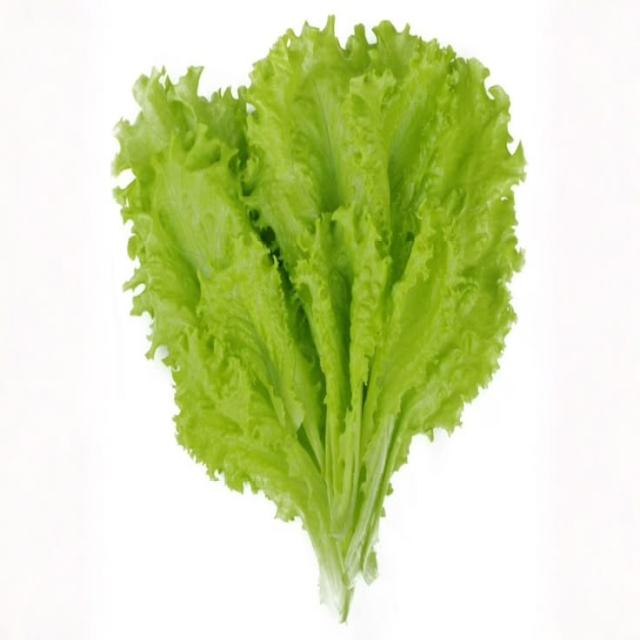lettuce: (114, 20, 524, 617)
